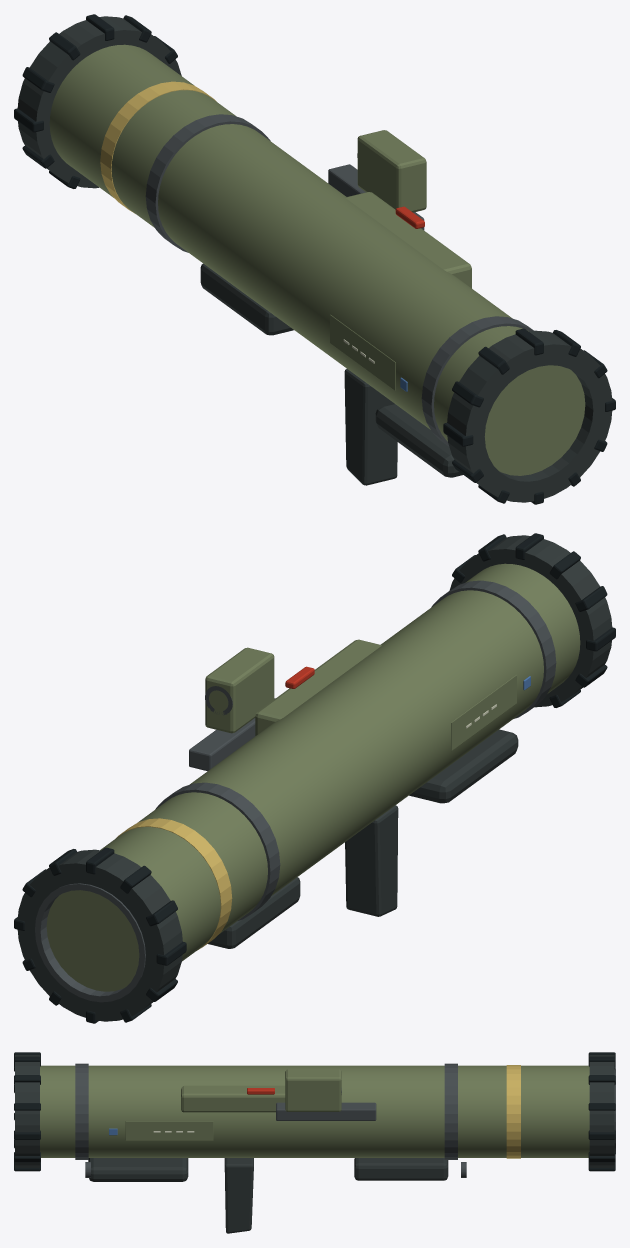
The model's file is rocket_2.glb.
The picture shows the model from 3 angles, top to bottom: view 1: azimuth 30°, elevation 25°; view 2: azimuth 150°, elevation 25°; view 3: azimuth 270°, elevation 25°; orthographic projection. The views are drawn at different scales.
Visible parts, largest first — view 1: Weapon_rocket_realism_v2; view 2: Weapon_rocket_realism_v2; view 3: Weapon_rocket_realism_v2.
Part boxes in pixels (box(x1,y1,x2,y2)): Weapon_rocket_realism_v2: box(14, 14, 615, 504); Weapon_rocket_realism_v2: box(14, 533, 615, 1023); Weapon_rocket_realism_v2: box(14, 1052, 615, 1233).
Size of the model in its own units: 0.2075 by 0.3179 by 0.9615.
